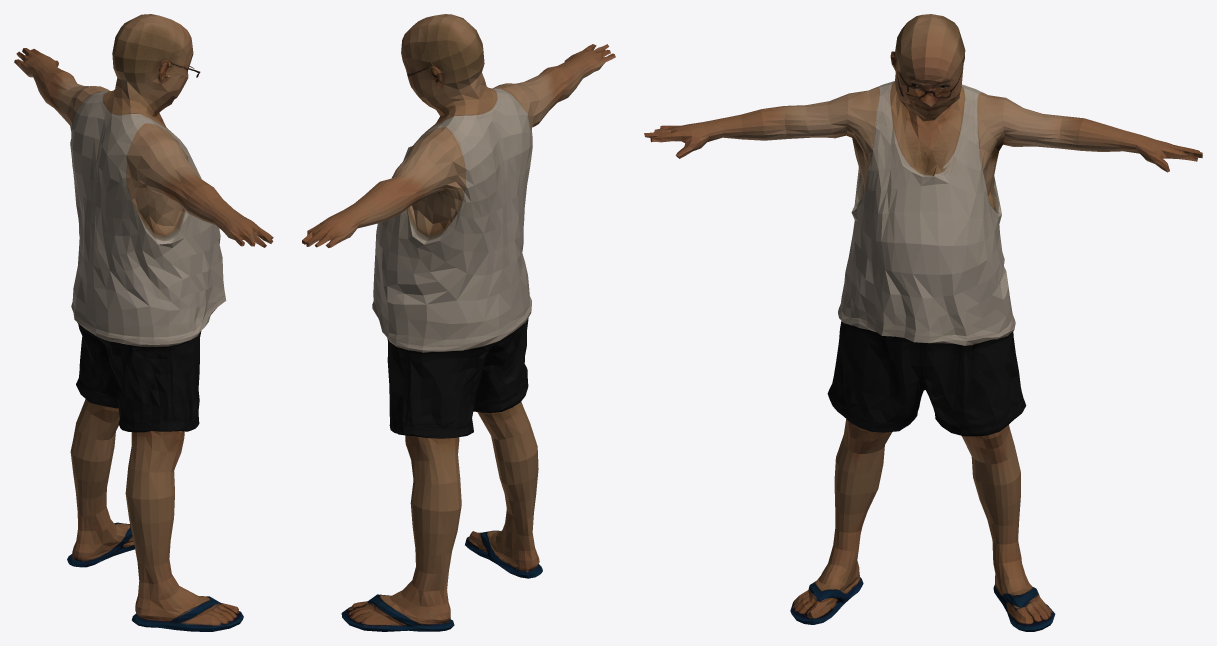
File: tripo_convert_67cb3639-5b95-4440-b1ae-ff67b939fe69.obj
3 renders of one model, left to right at view 1: azimuth 30°, elevation 25°; view 2: azimuth 150°, elevation 25°; view 3: azimuth 270°, elevation 25°, orthographic. The views are drawn at different scales.
Parts seen in each view (by area): view 1: tripo_node_67cb3639-5b95-4440-b1ae-ff67b939fe69; view 2: tripo_node_67cb3639-5b95-4440-b1ae-ff67b939fe69; view 3: tripo_node_67cb3639-5b95-4440-b1ae-ff67b939fe69.
Part boxes in pixels (x1,y1,x2,y2): tripo_node_67cb3639-5b95-4440-b1ae-ff67b939fe69: (14, 14, 273, 631); tripo_node_67cb3639-5b95-4440-b1ae-ff67b939fe69: (302, 14, 615, 631); tripo_node_67cb3639-5b95-4440-b1ae-ff67b939fe69: (644, 14, 1202, 631).
Size of the model in its own units: 0.2453 by 0.9998 by 0.8575.
Materials: 1 (1 with a texture image).
